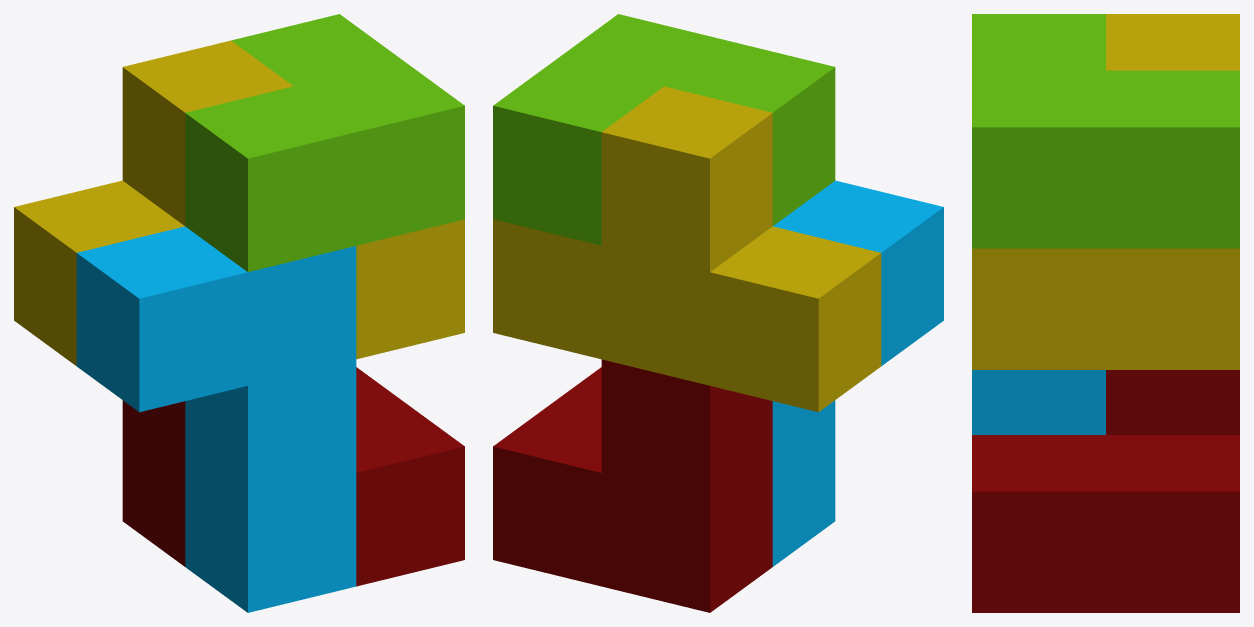
3 views of the same model, side by side, from view 1: azimuth 30°, elevation 25°; view 2: azimuth 150°, elevation 25°; view 3: azimuth 270°, elevation 25° (orthographic). The views are drawn at different scales.
Parts seen in each view (by area): view 1: mergedBlocks(Clone); view 2: mergedBlocks(Clone); view 3: mergedBlocks(Clone).
Boxes of the visible parts, bbox=[...] form: mergedBlocks(Clone): bbox=[14, 14, 464, 612]; mergedBlocks(Clone): bbox=[493, 14, 943, 612]; mergedBlocks(Clone): bbox=[972, 14, 1239, 612].
Size of the model in its own units: 3 by 4 by 2.
4 materials, 4 textured.
